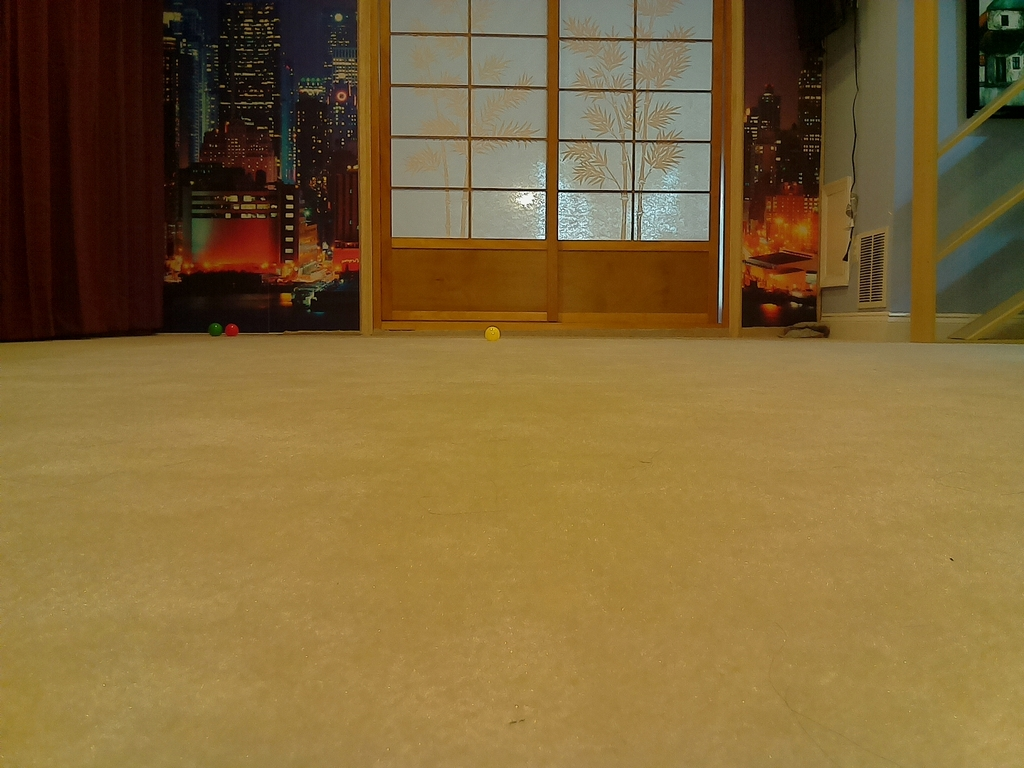ball: (487, 326, 500, 342)
